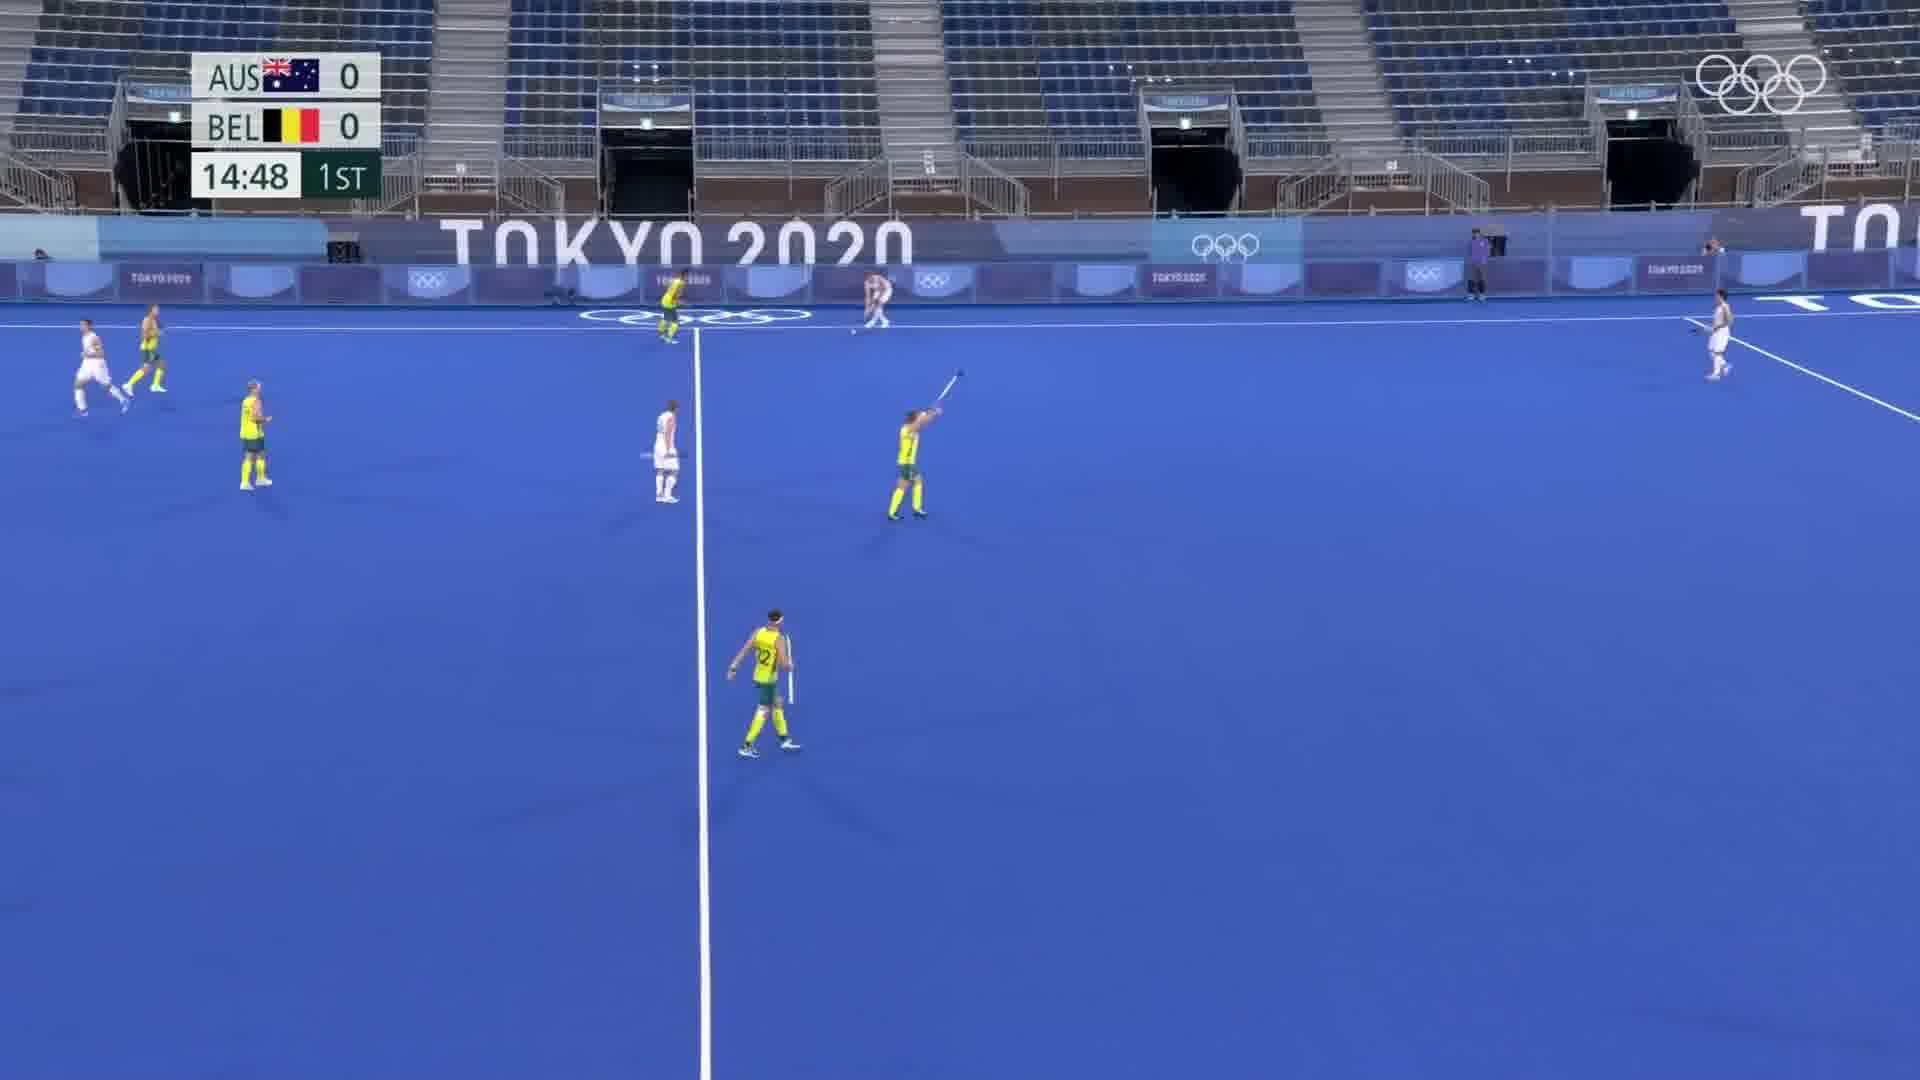ball: (847, 323, 866, 338)
